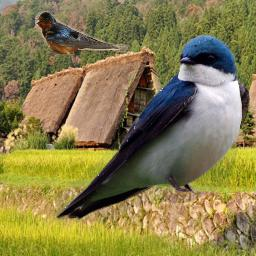Swallow: (55, 34, 250, 222), (35, 11, 129, 54)
